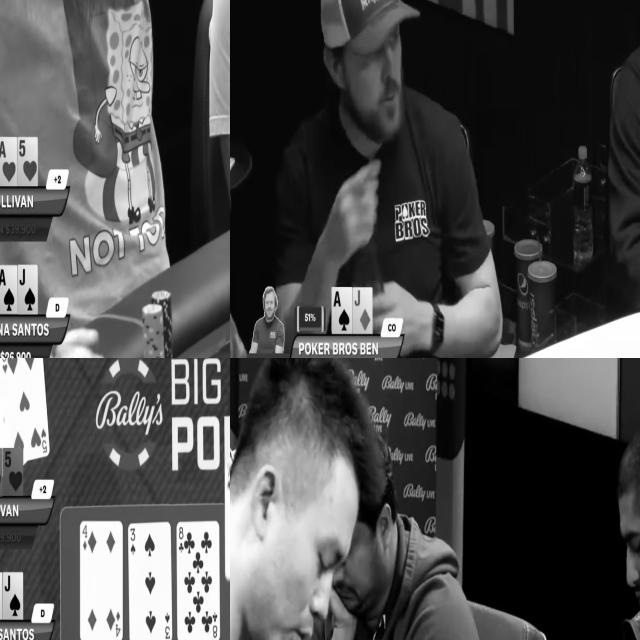5H: (3, 448, 23, 496), (18, 138, 37, 186)
AH: (0, 137, 16, 186)
AS: (332, 287, 352, 332), (0, 266, 17, 314)
JD: (353, 288, 372, 333), (4, 573, 22, 619)
JS: (18, 265, 37, 315)
